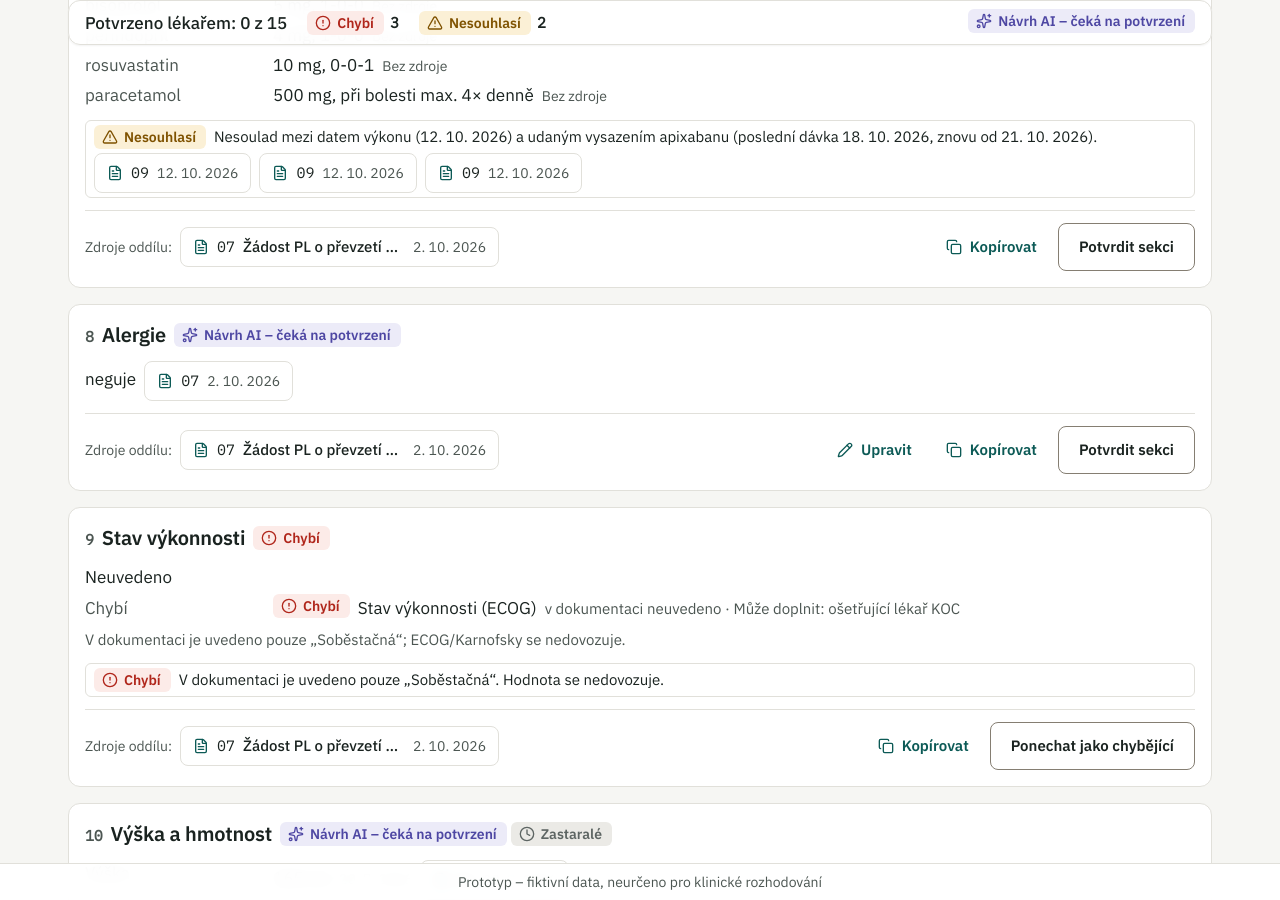
Test: handover step 3 › shows the problem title when the server refuses a confirmation
The image size is (1280, 900).
(page scrolled)
Click the button with aria-label "Potvrdit sekci: Alergie".
click(1126, 450)  # box [1058, 426, 1195, 474]
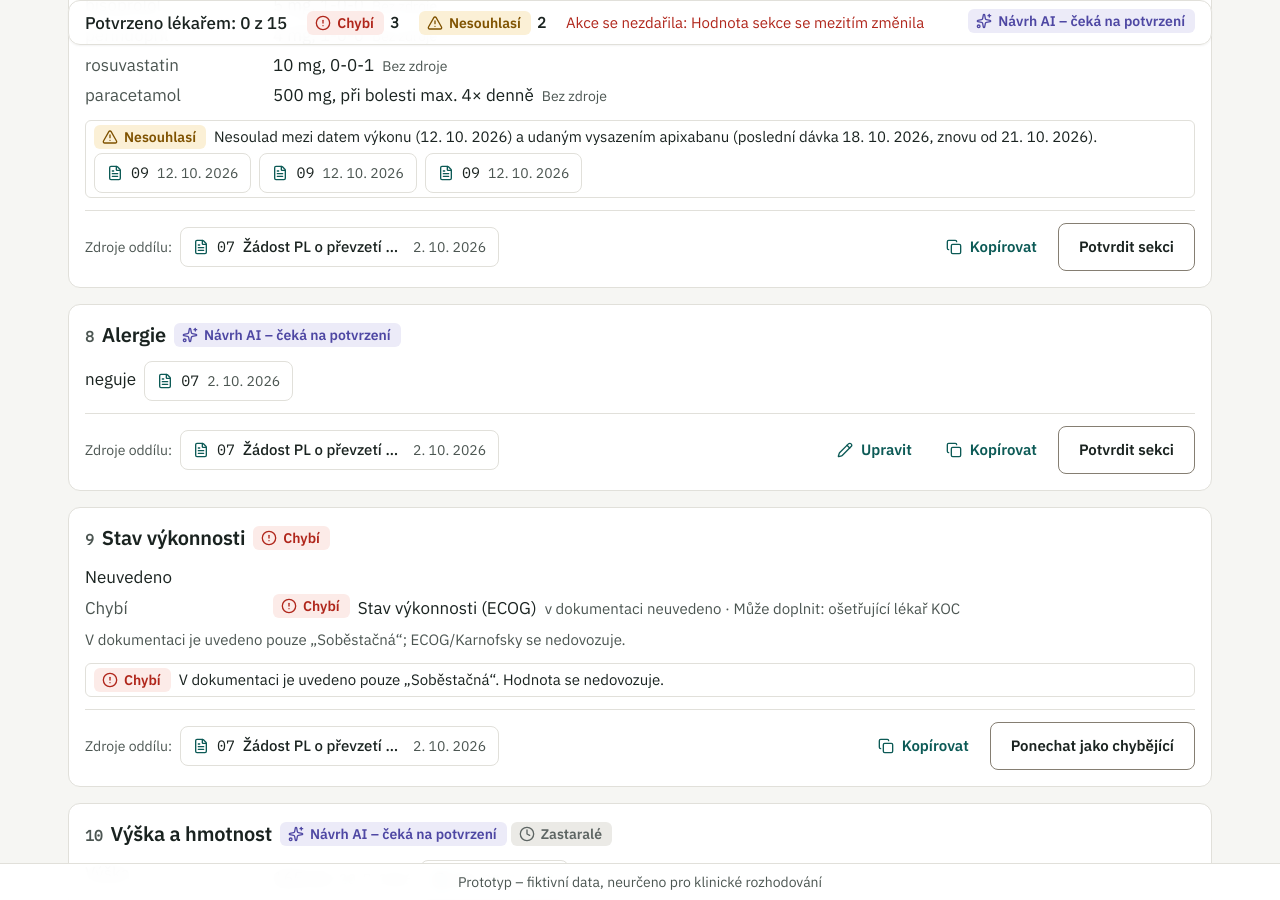
Expected: the message reads "Akce se nezdařila: Hodnota sekce se mezitím změnila", [566, 12, 924, 32]
